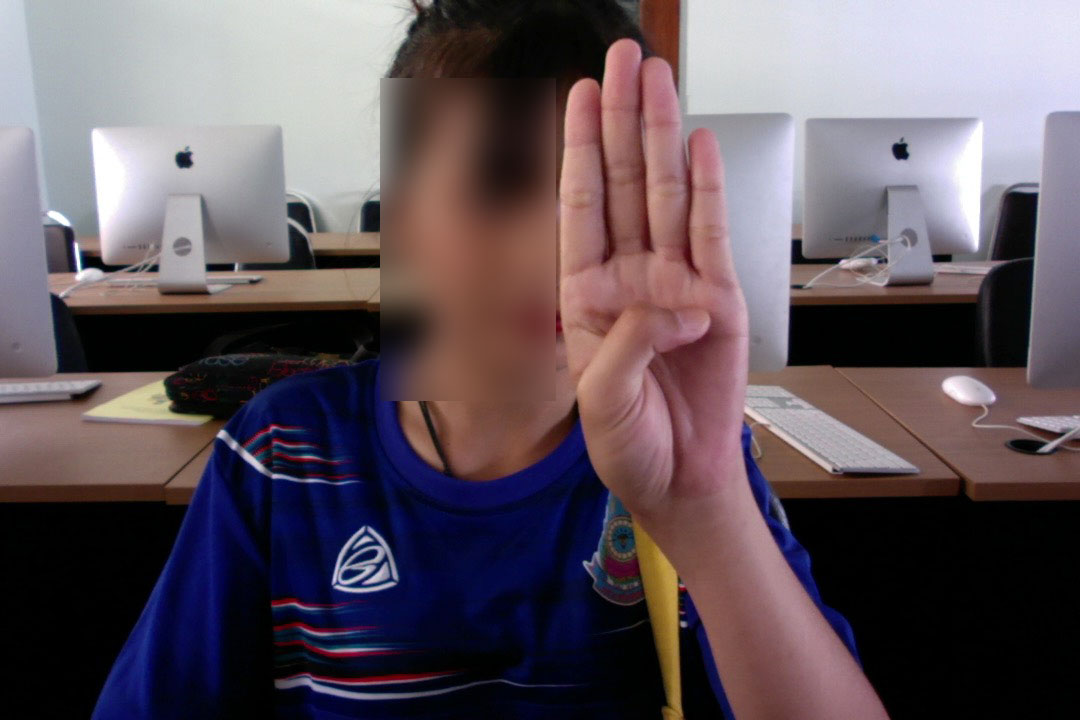bor: (534, 29, 781, 540)
